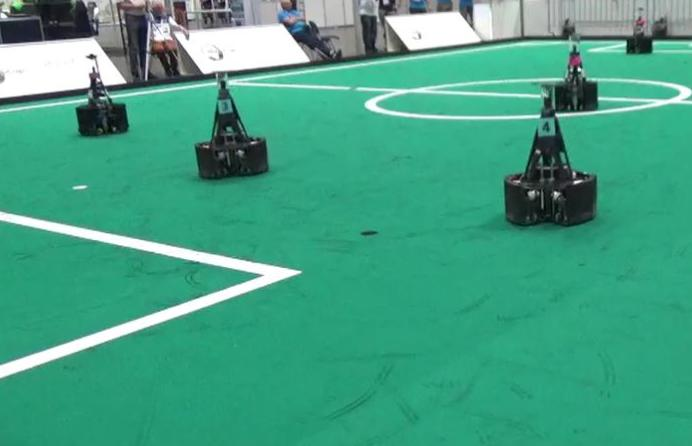robot: (499, 77, 601, 230), (192, 68, 271, 183), (70, 52, 133, 139), (546, 30, 605, 115)
